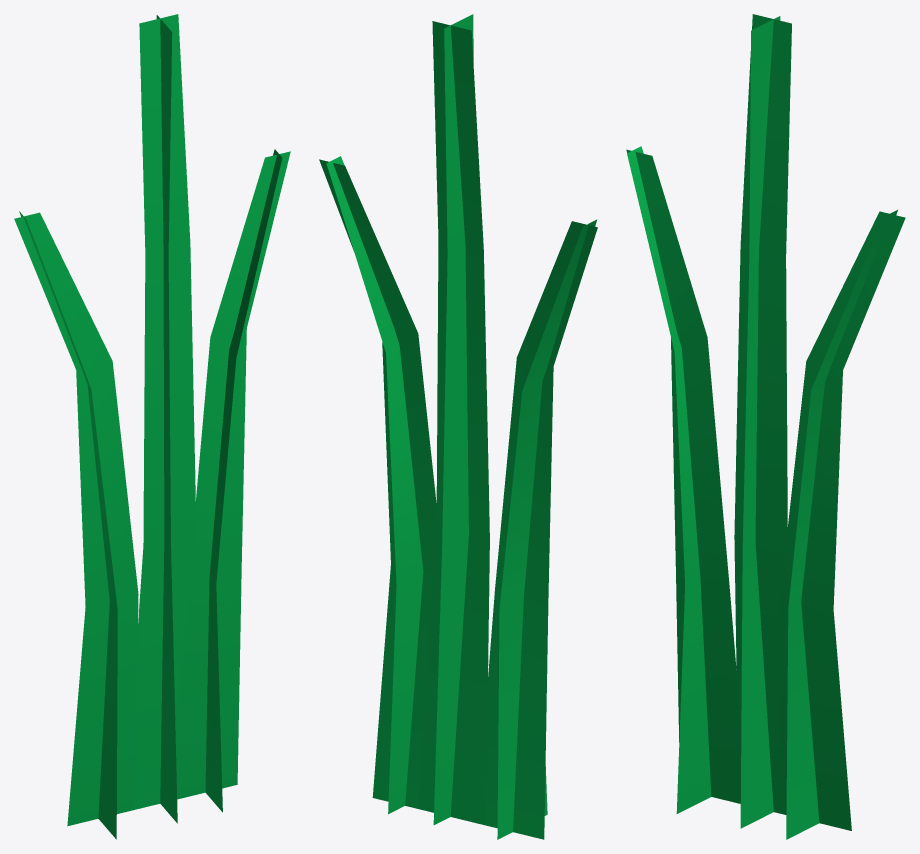
File: grass.fbx
The picture shows the model from 3 angles, left to right: view 1: azimuth 30°, elevation 25°; view 2: azimuth 150°, elevation 25°; view 3: azimuth 330°, elevation 25°; orthographic projection.
Parts seen in each view (by area): view 1: pPlane19; view 2: pPlane19; view 3: pPlane19.
Part boxes in pixels (box(x1,y1,x2,y2)): pPlane19: box(14, 14, 290, 839); pPlane19: box(319, 14, 597, 839); pPlane19: box(626, 14, 905, 839).
Size of the model in its own units: 8.4 by 22.79 by 2.06.
